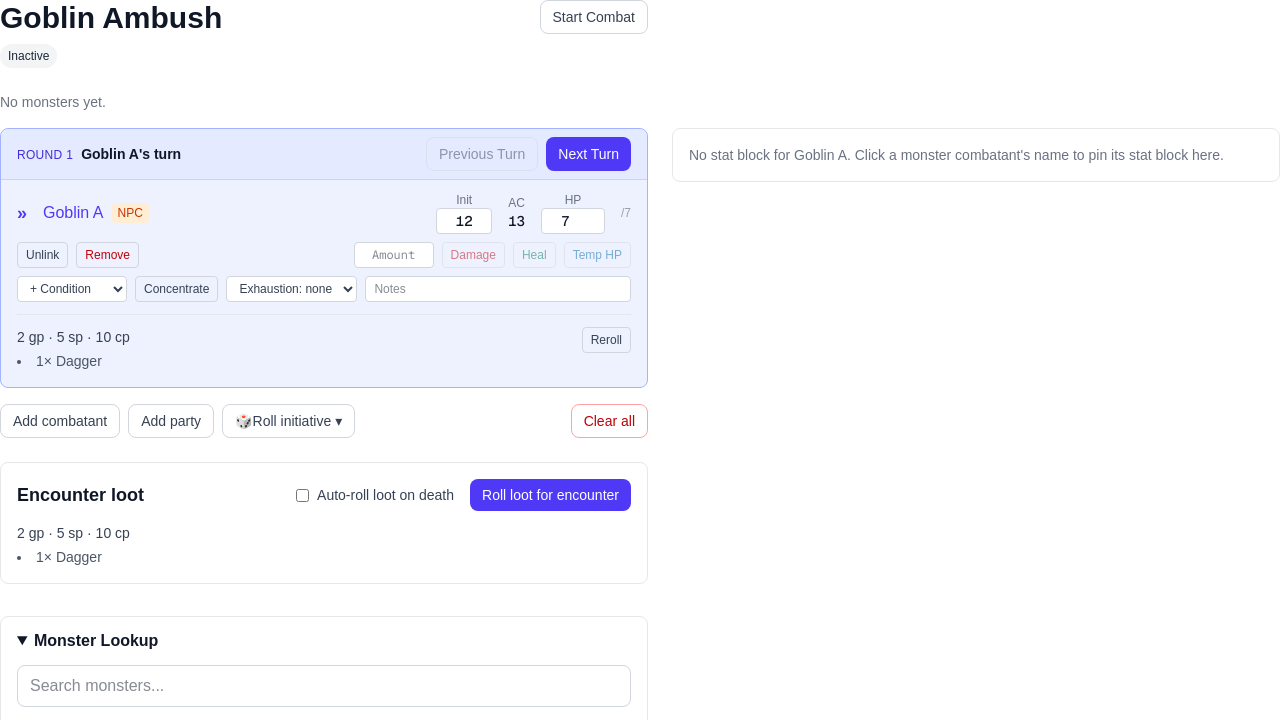
Test: InitiativeTrackerPage › encounter loot › cancelling the replace-drops confirm sends nothing
The width and height of the screenshot is (1280, 720).
Check: the heading "Goblin Ambush" is shown, box left=0, top=0, right=222, bottom=36
Click the button "Roll loot for encounter" at (550, 495), box left=470, top=479, right=631, bottom=511
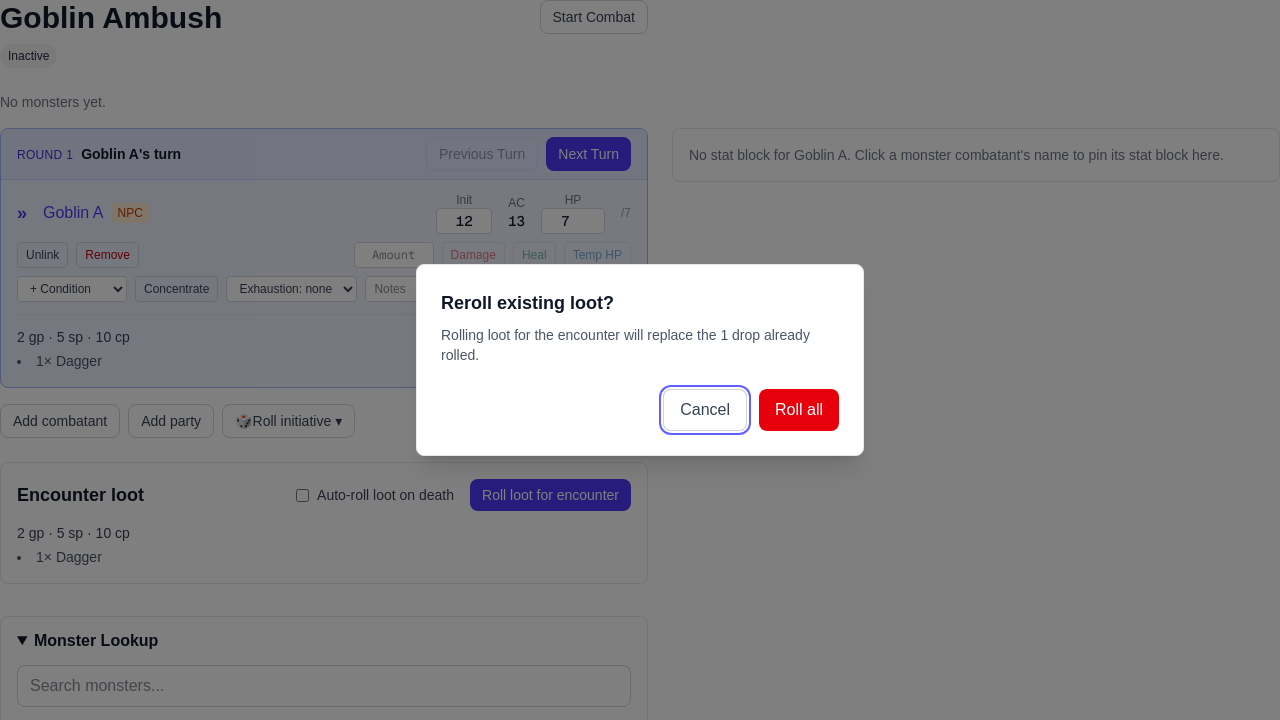
Click the button "Cancel" at (705, 410), box left=663, top=389, right=747, bottom=431
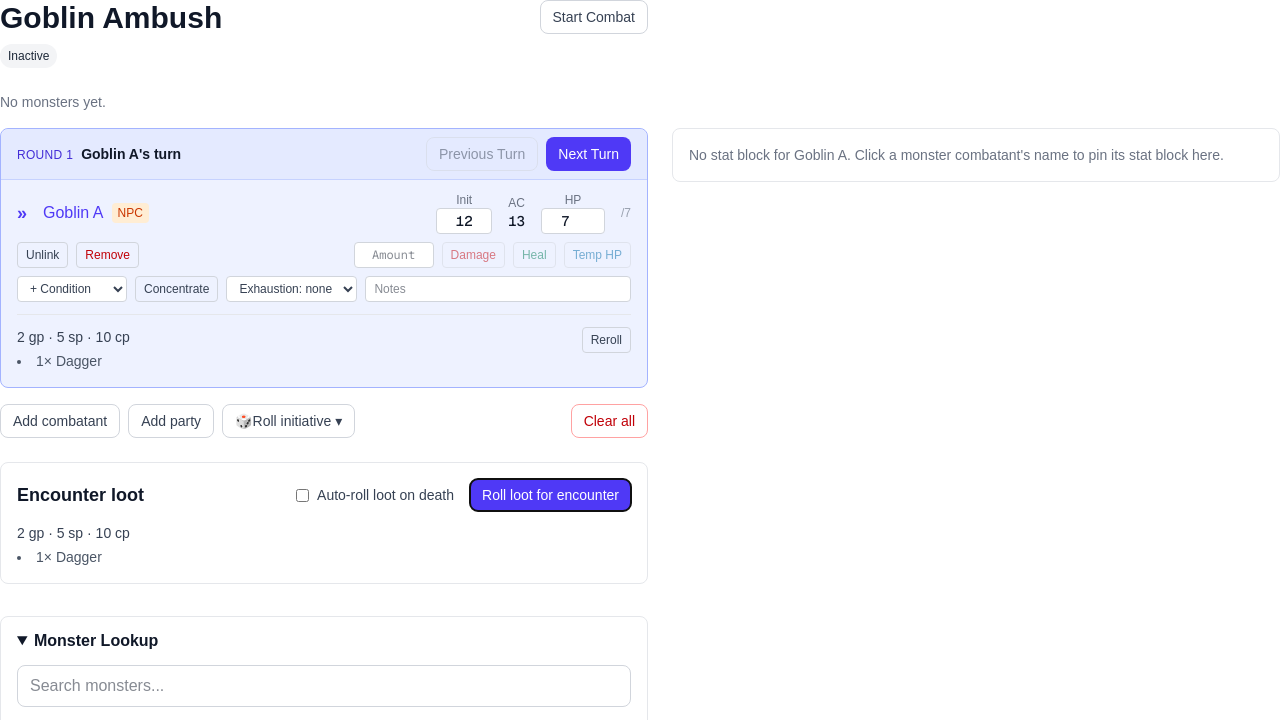
Check: the dialog is gone
